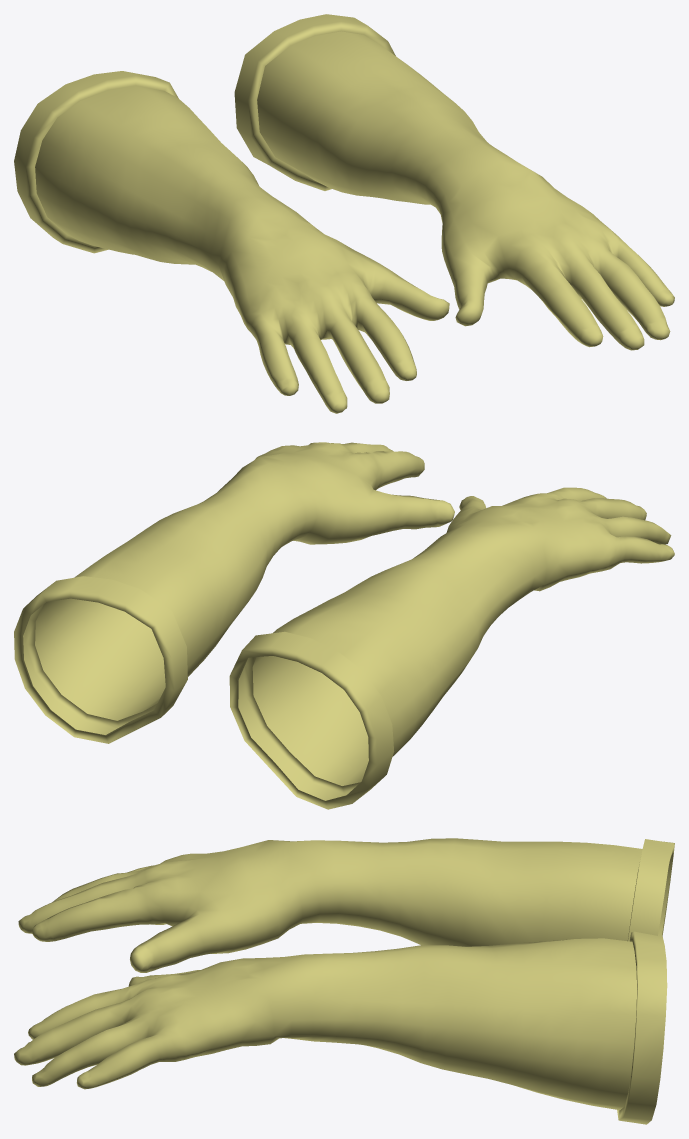
Rendered from Gloves.fbx.
The picture shows the model from 3 angles, top to bottom: view 1: azimuth 30°, elevation 25°; view 2: azimuth 150°, elevation 25°; view 3: azimuth 270°, elevation 25°; orthographic projection. The views are drawn at different scales.
Parts seen in each view (by area): view 1: pasted__Body2, pasted__Body; view 2: pasted__Body2, pasted__Body; view 3: pasted__Body, pasted__Body2.
Part boxes in pixels (x1,y1,x2,y2): pasted__Body2: [14, 71, 449, 413]; pasted__Body: [234, 14, 674, 350]; pasted__Body2: [229, 487, 674, 809]; pasted__Body: [14, 442, 454, 743]; pasted__Body: [14, 931, 667, 1124]; pasted__Body2: [18, 838, 674, 972].
Size of the model in its own units: 16.9 by 7.14 by 24.26.
